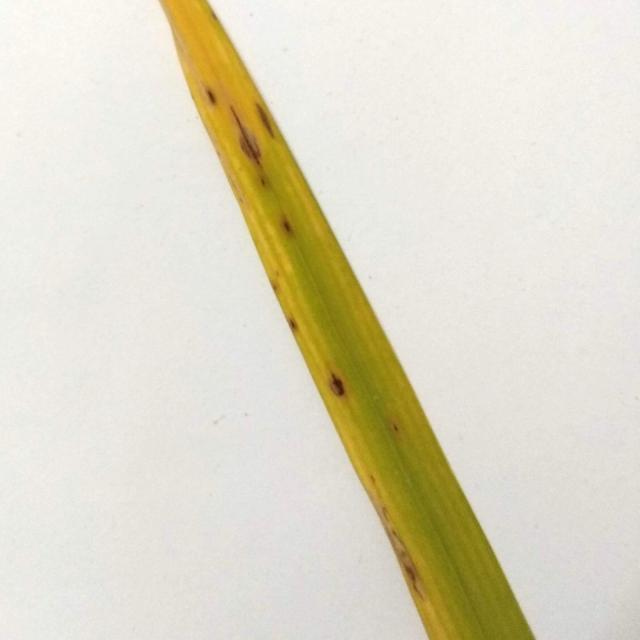Brown spot: (146, 0, 536, 640)
